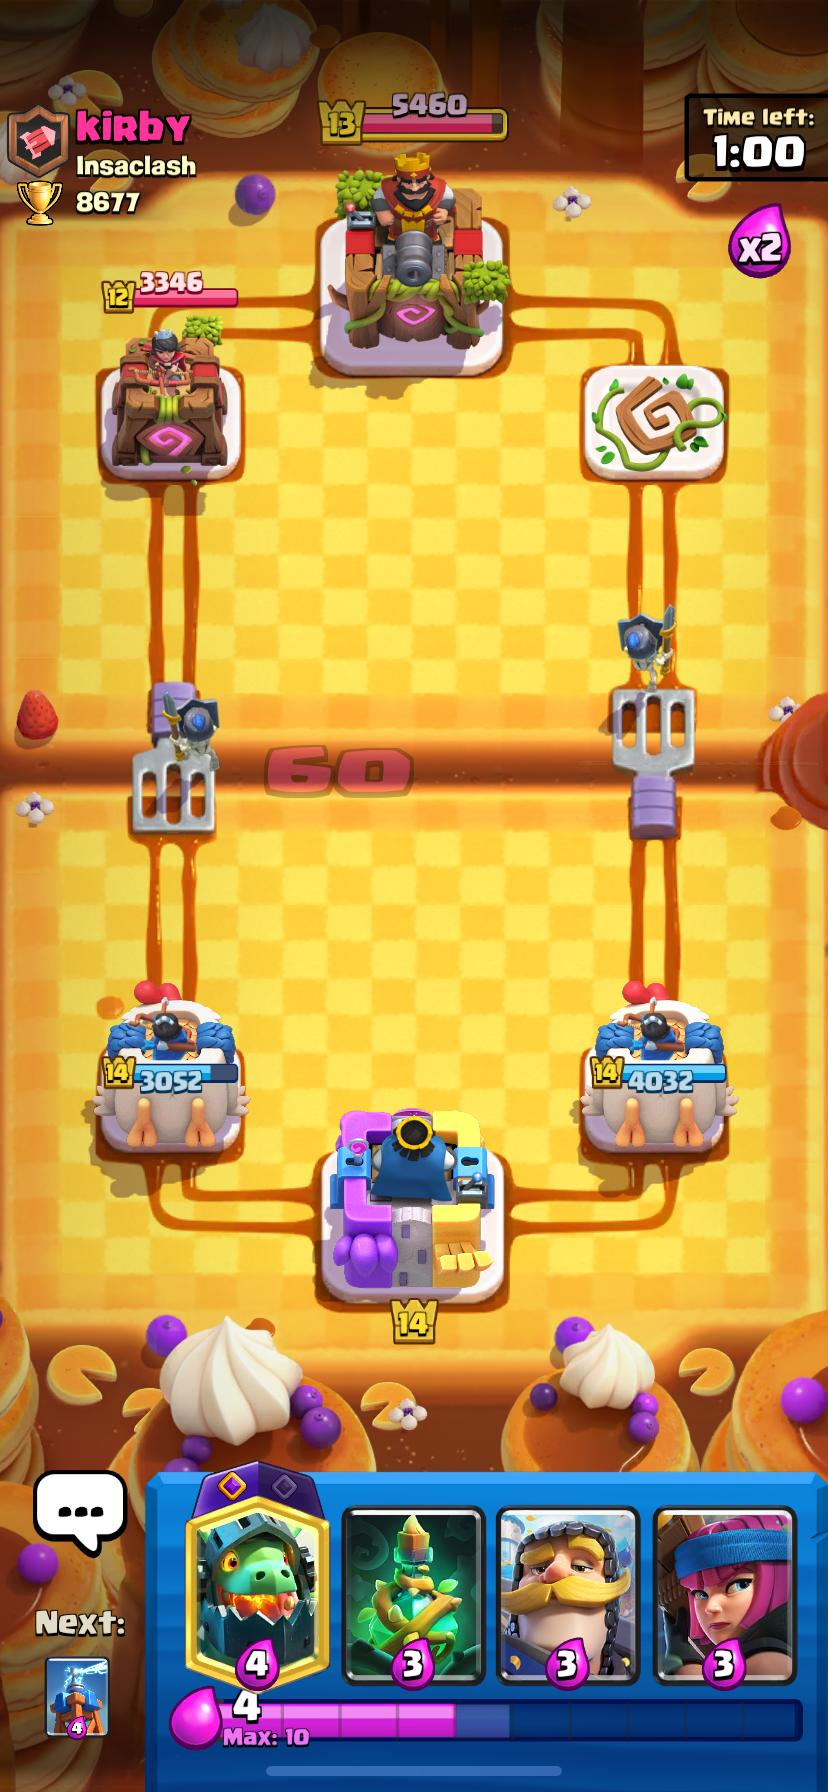EKingTower: (331, 150, 509, 351)
EnemyPrincessTower: (112, 328, 226, 474)
OGuard: (618, 605, 674, 688), (164, 694, 218, 769)
OwnKingTower: (321, 1109, 503, 1303)
OwnPrincessTower: (580, 982, 737, 1154), (93, 983, 248, 1152)
TowerDown: (583, 366, 723, 480)
